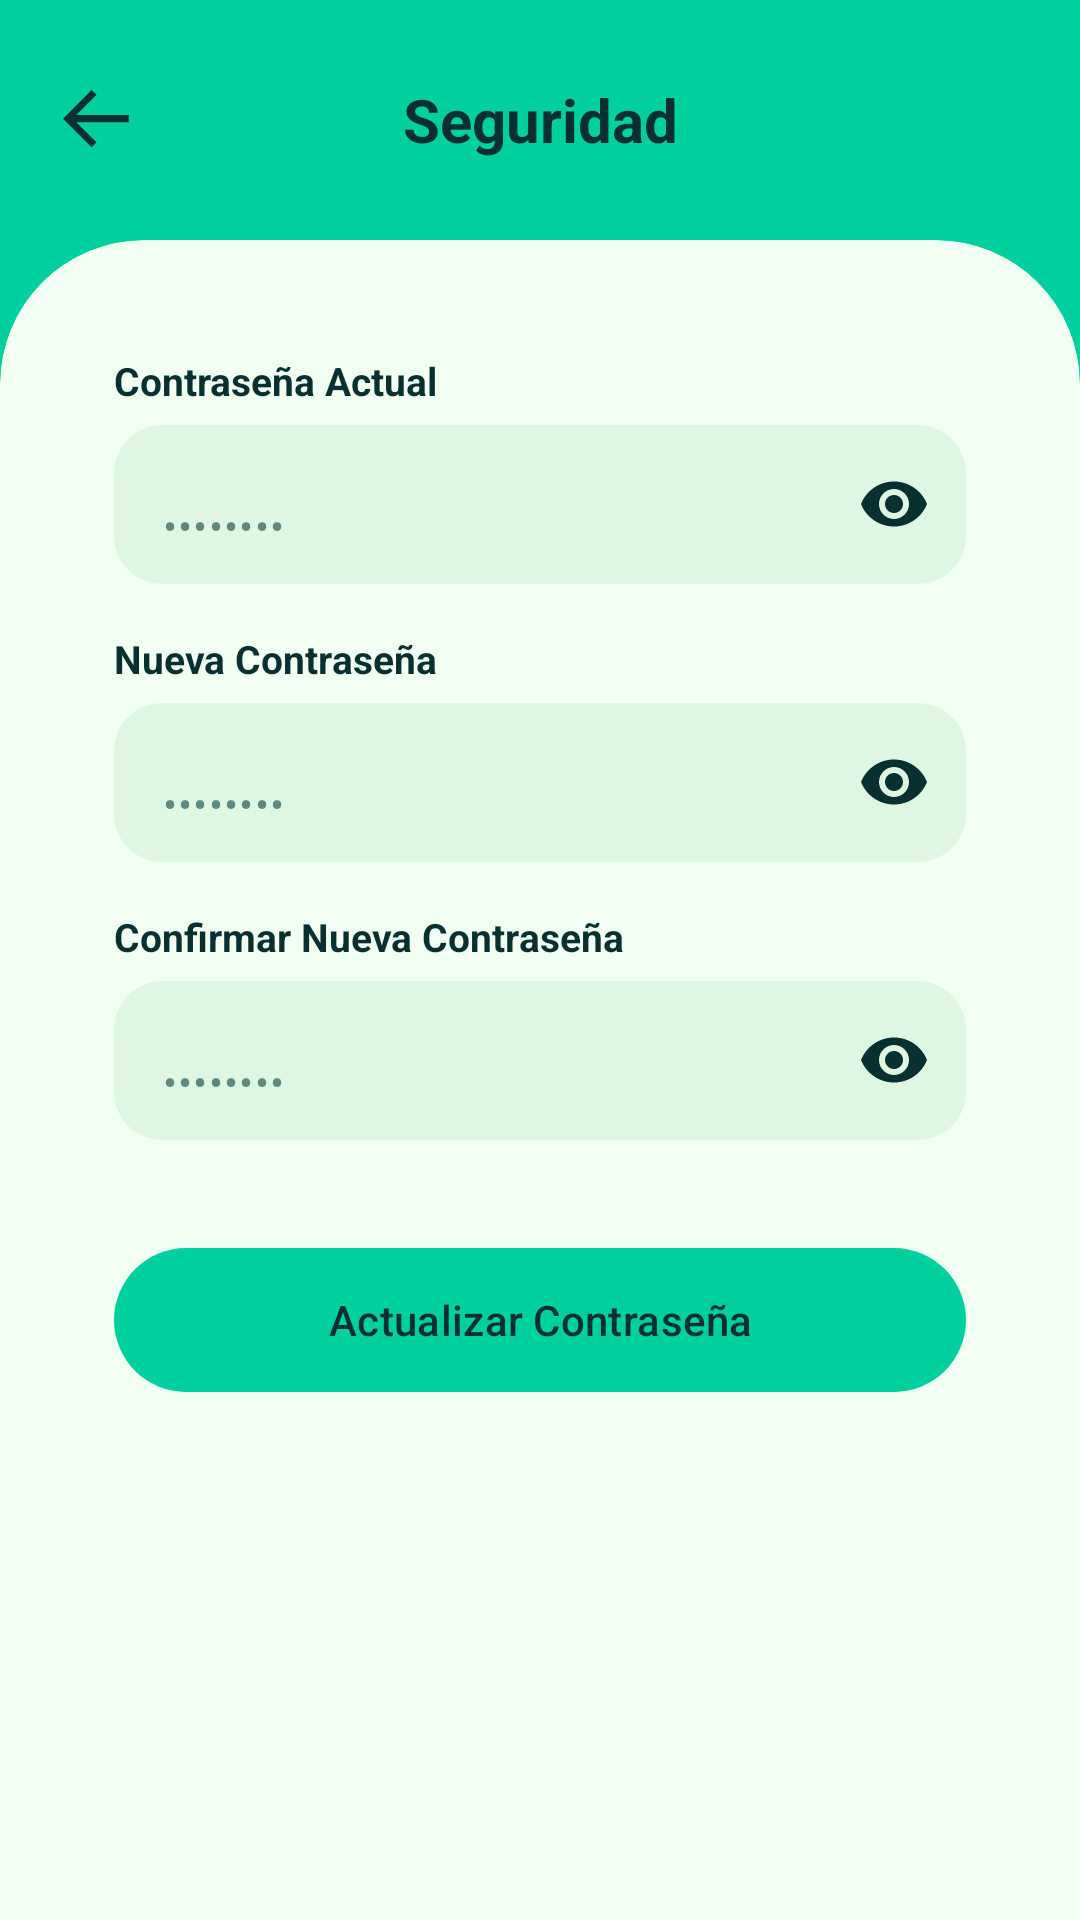

Icon click points for this 1080 x 1920 phone screenshot, format (x,y):
arrow back: (96,118)
